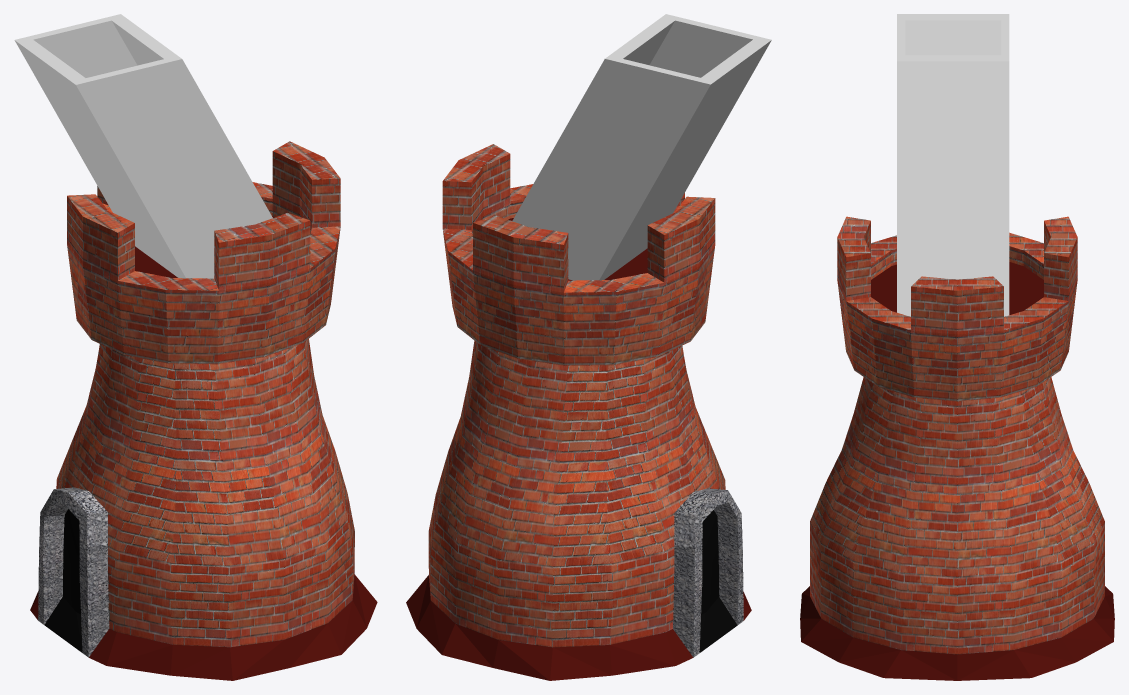
The model's file is 巡弋飛彈.FBX.
The picture shows the model from 3 angles, left to right: view 1: azimuth 30°, elevation 25°; view 2: azimuth 150°, elevation 25°; view 3: azimuth 270°, elevation 25°; orthographic projection. The views are drawn at different scales.
Parts seen in each view (by area): view 1: 基礎塔, Box001; view 2: 基礎塔, Box001; view 3: 基礎塔, Box001.
Part boxes in pixels (left/top/right/bottom): 基礎塔: left=30, top=141, right=377, bottom=680; Box001: left=14, top=14, right=272, bottom=278; 基礎塔: left=406, top=144, right=751, bottom=680; Box001: left=512, top=14, right=771, bottom=280; 基礎塔: left=800, top=216, right=1114, bottom=680; Box001: left=897, top=14, right=1009, bottom=316.
Bounding box in the file's own units: 14.46 × 26.8 × 14.35.
4 materials, 2 textured.
